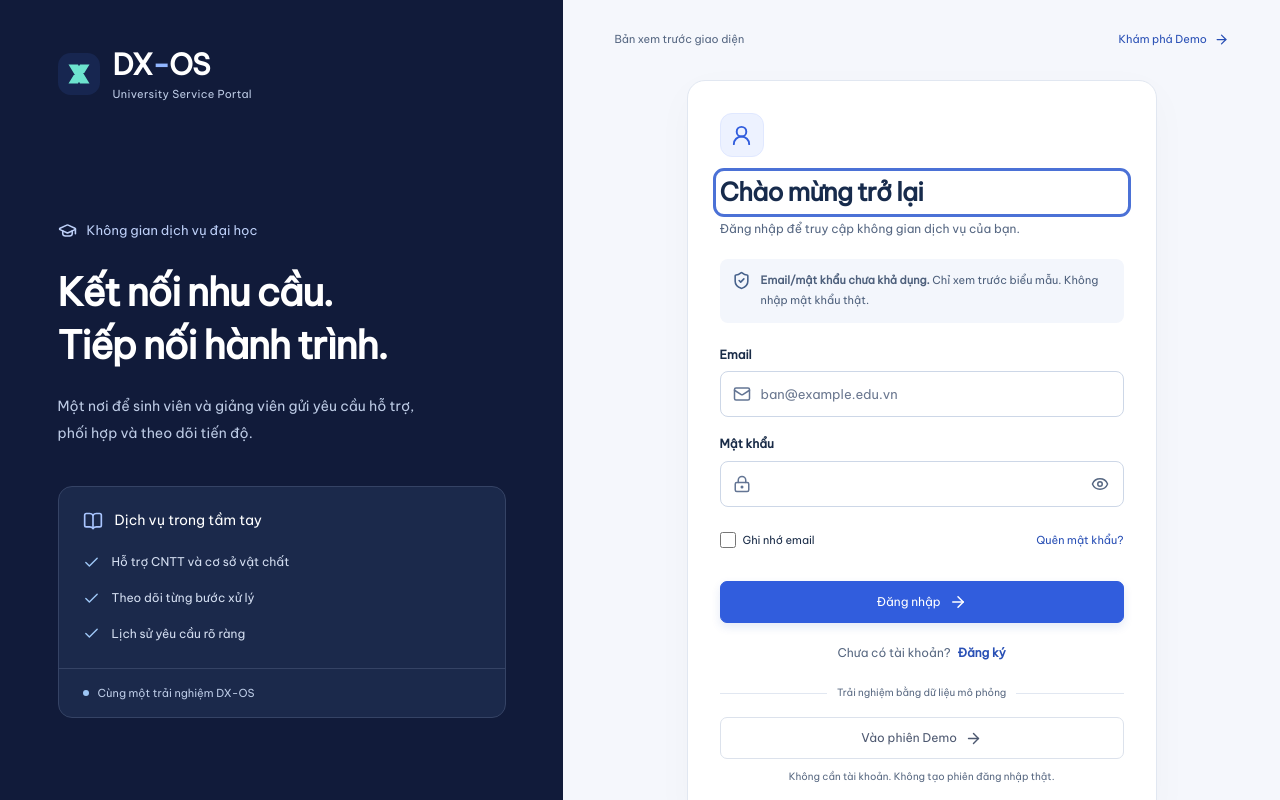
Test: email/password UI remains blocked › rejects invalid email invalid accessibly
Type "invalid" into the field labelled "Email".
click(922, 394); type("invalid")  # box left=720, top=371, right=1124, bottom=417
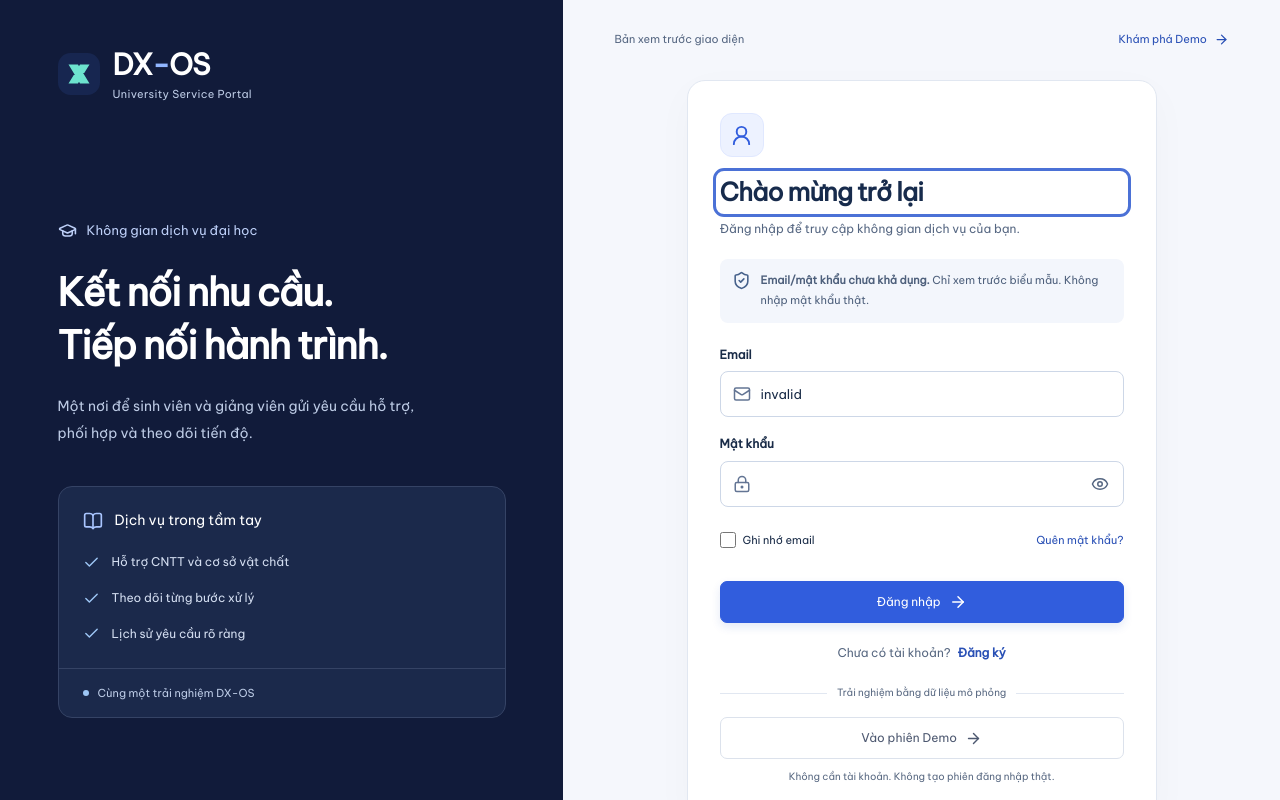
Click the button "Đăng nhập".
click(922, 602)  # box left=720, top=581, right=1124, bottom=623
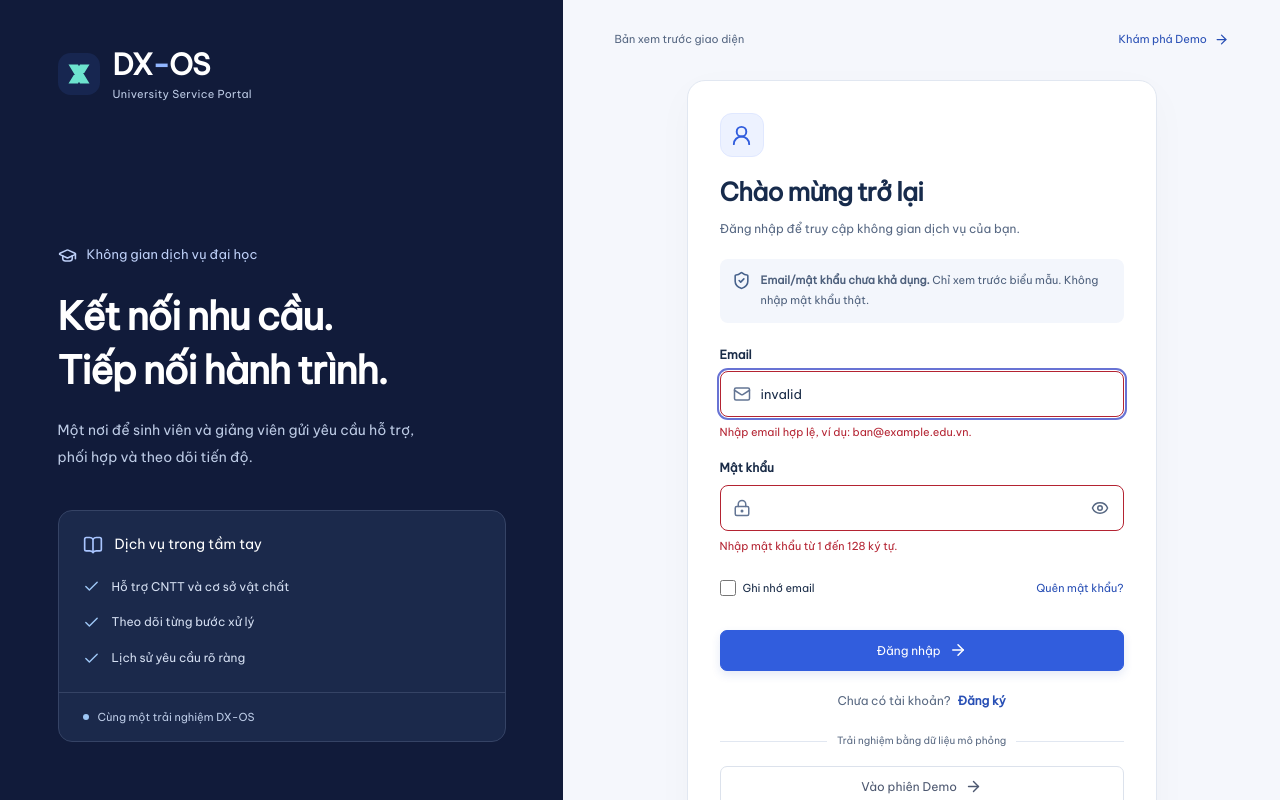
Now the text "Nhập email hợp lệ, ví dụ: ban@example.edu.vn." is shown, box left=720, top=425, right=972, bottom=439
